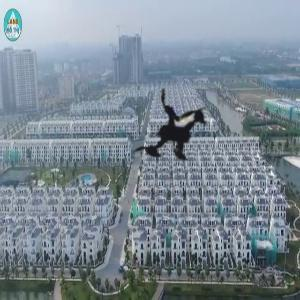drone: (101, 61, 256, 216)
